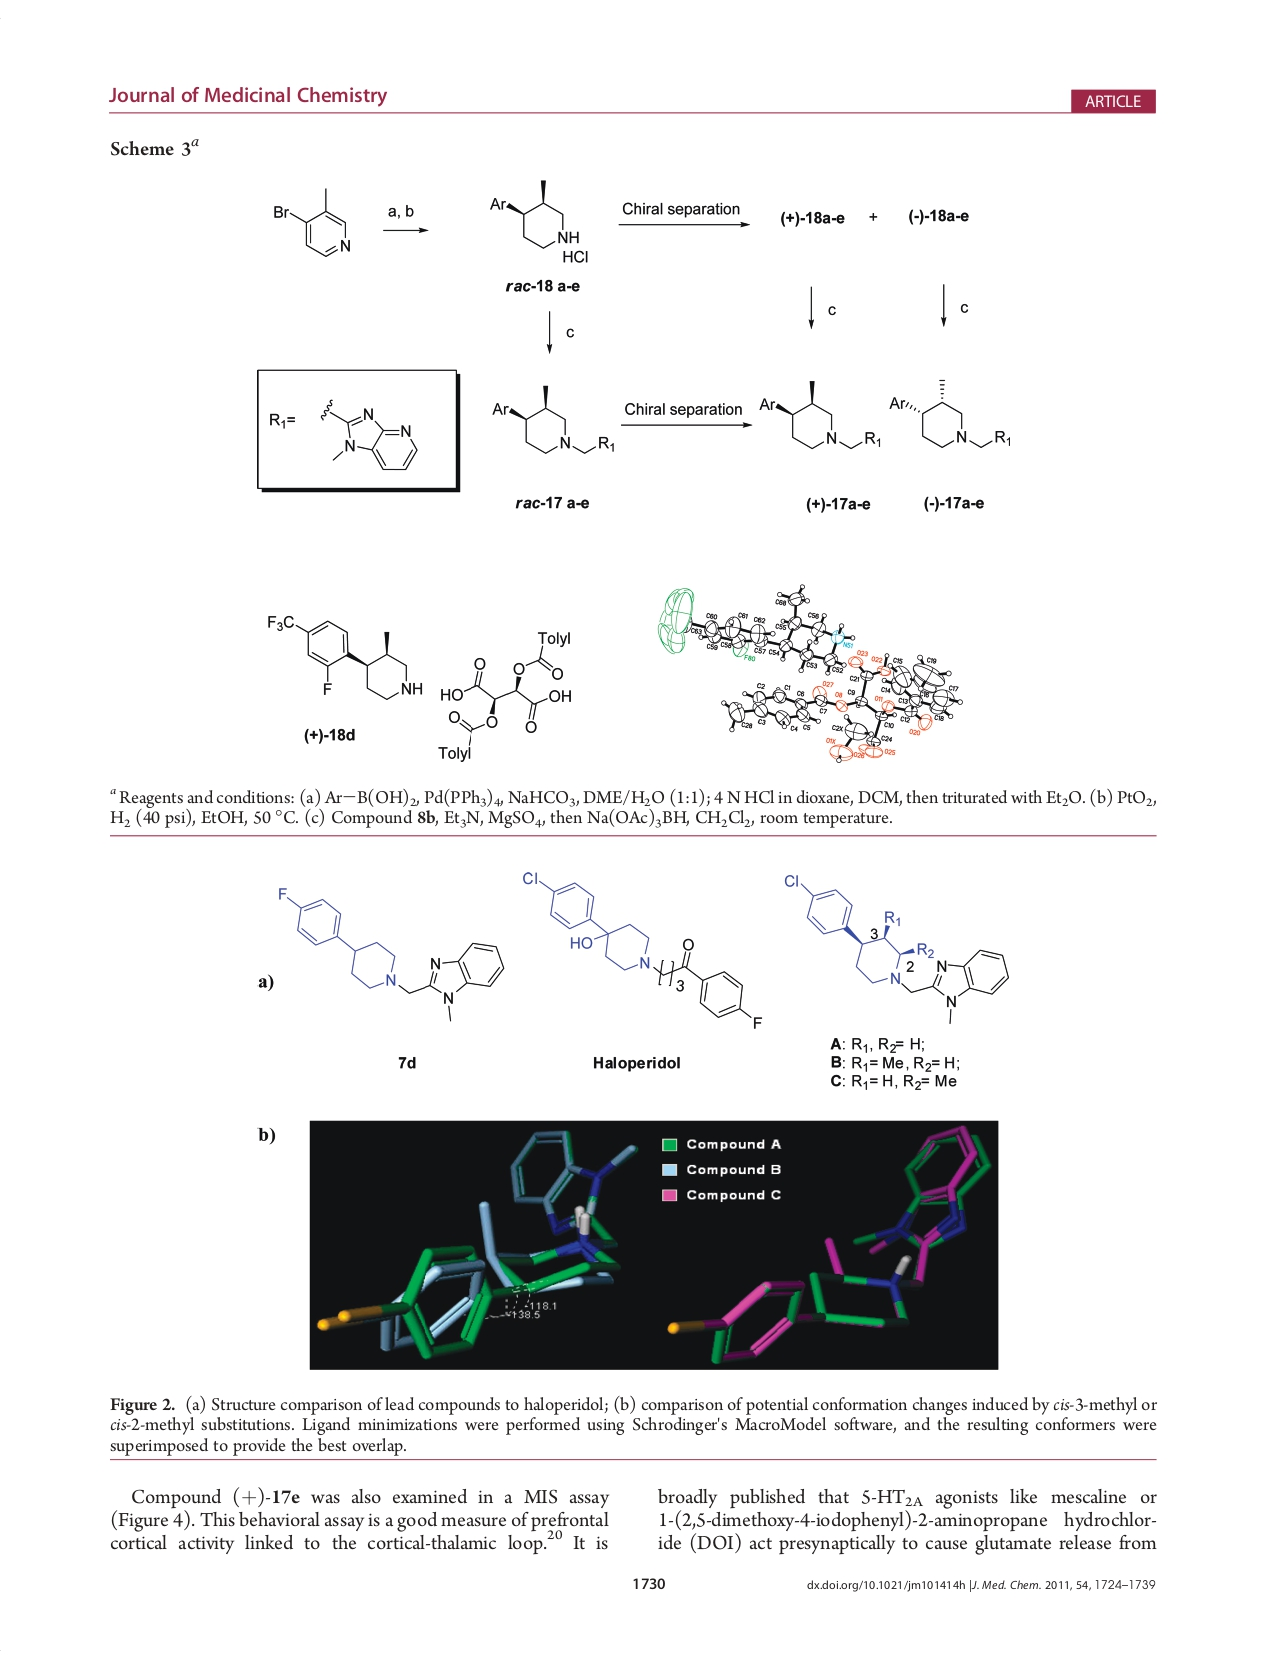exist_molecular: (517, 867, 767, 1032), (781, 868, 1015, 1027), (271, 883, 507, 1023), (435, 626, 574, 762), (257, 610, 423, 704), (882, 375, 1016, 456), (755, 372, 884, 456), (481, 172, 590, 270), (485, 379, 617, 457), (310, 392, 423, 477), (266, 182, 358, 262)
